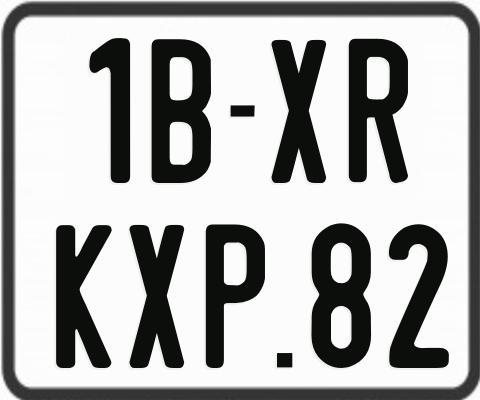1: (86, 38, 133, 187)
2: (388, 223, 454, 367)
8: (308, 223, 371, 371)
B: (150, 36, 210, 184)
K: (56, 224, 112, 372)
P: (206, 223, 270, 371)
R: (348, 37, 411, 181)
X: (128, 223, 187, 371), (269, 39, 325, 186)
